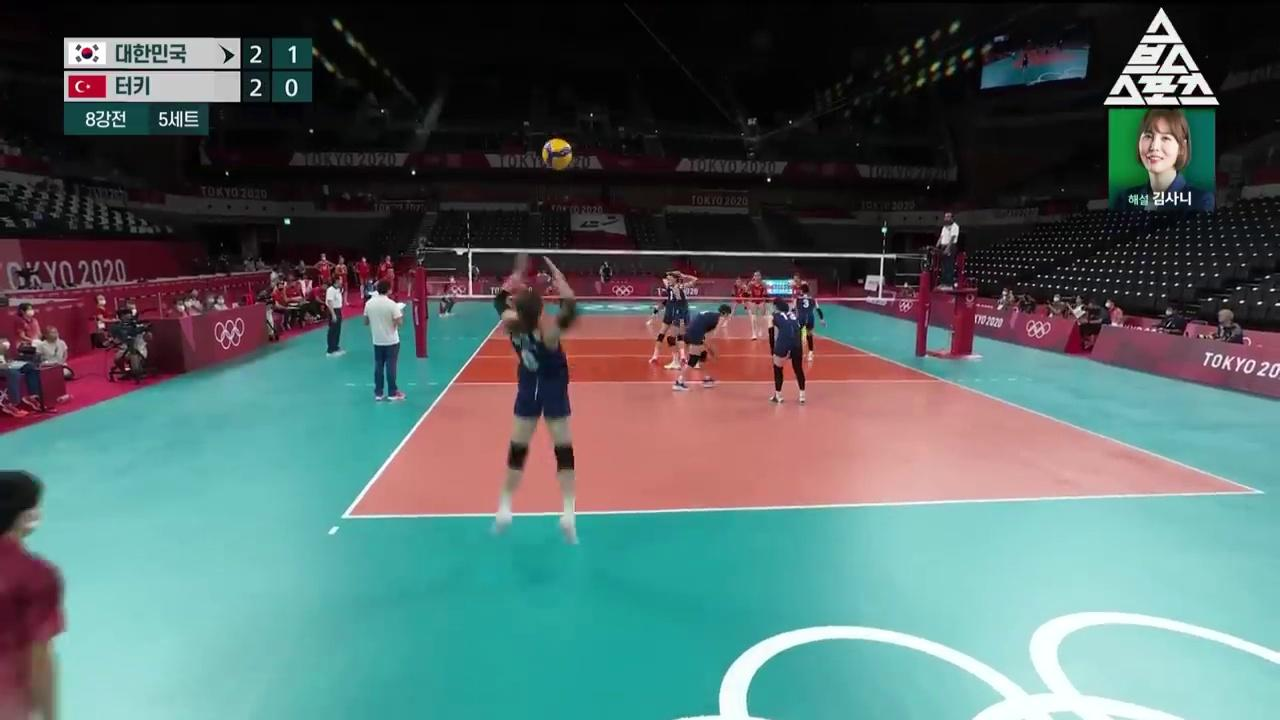ball: (542, 138, 572, 169)
player: (495, 252, 577, 544), (673, 304, 731, 390), (649, 271, 697, 362), (768, 297, 805, 403), (664, 274, 700, 369), (787, 284, 826, 361), (721, 278, 756, 329), (747, 271, 766, 340), (789, 274, 810, 334)
referee: (937, 212, 959, 290), (325, 276, 346, 357)
